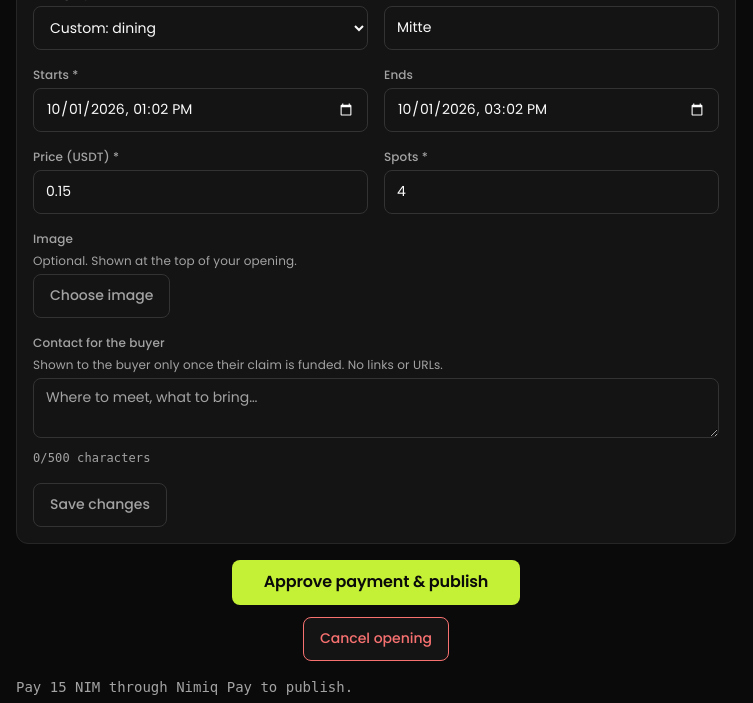
NIM listing fee publish flow › pays the fee then publishes when required
The width and height of the screenshot is (753, 703).
(page scrolled)
Expected: the text "Pay 15 NIM through Nimiq Pay to publish." is shown, x1=16 y1=679 x2=353 y2=695
Step 1. Click the button "Approve payment & publish" → [376, 582], box x1=232 y1=560 x2=520 y2=605
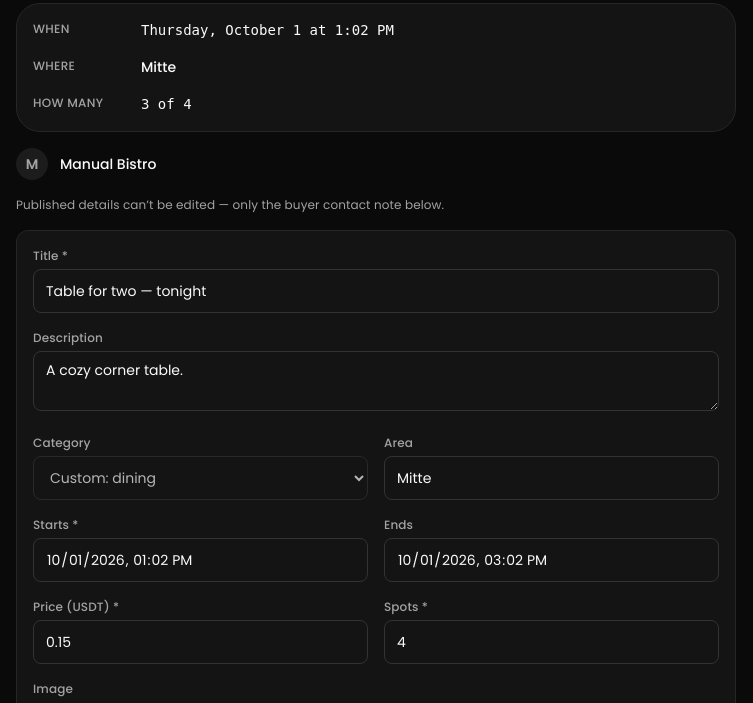
Expected: the text "be edited" is shown, x1=16 y1=196 x2=444 y2=213
